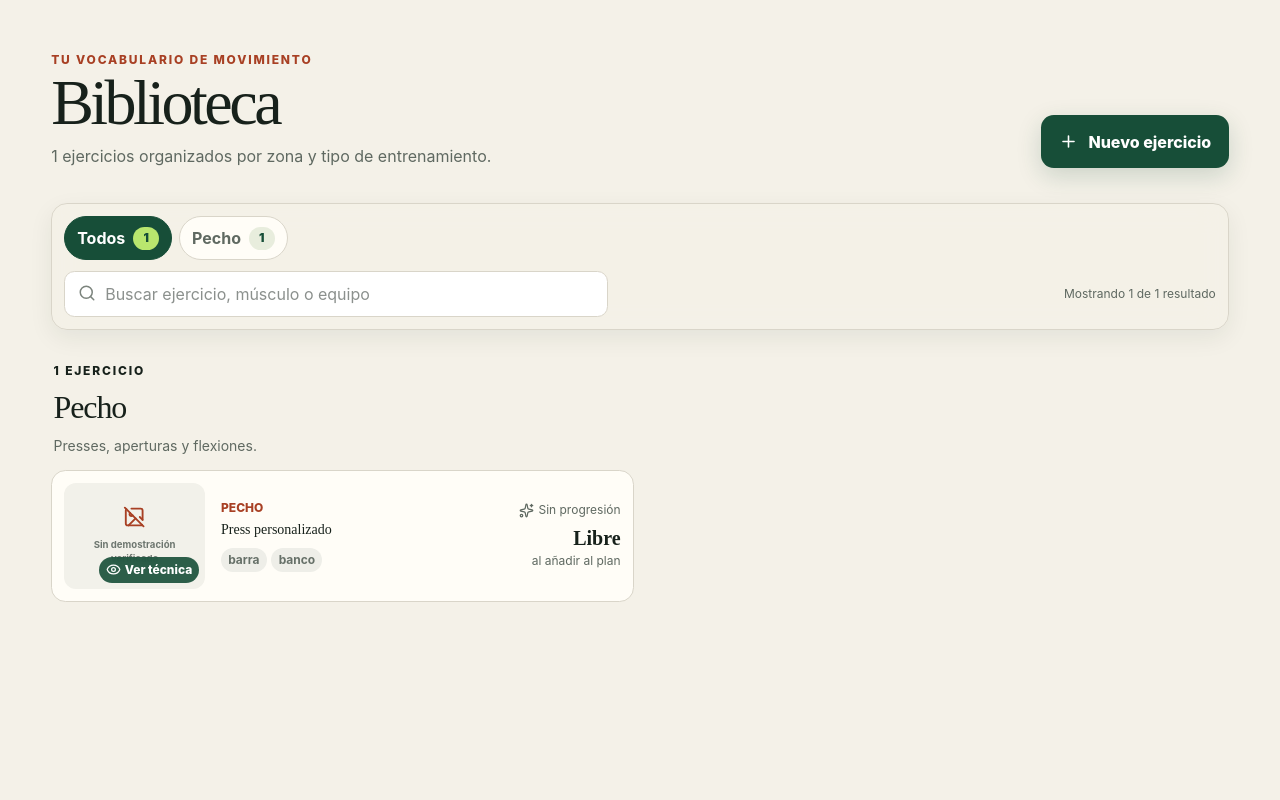
it: categorized exercise library › does not invent a visual for a custom exercise without verified media
This screenshot has width=1280, height=800.
Click the button with aria-label "Abrir guía visual de Press personalizado": x=135, y=536 left=64, top=483, right=205, bottom=589
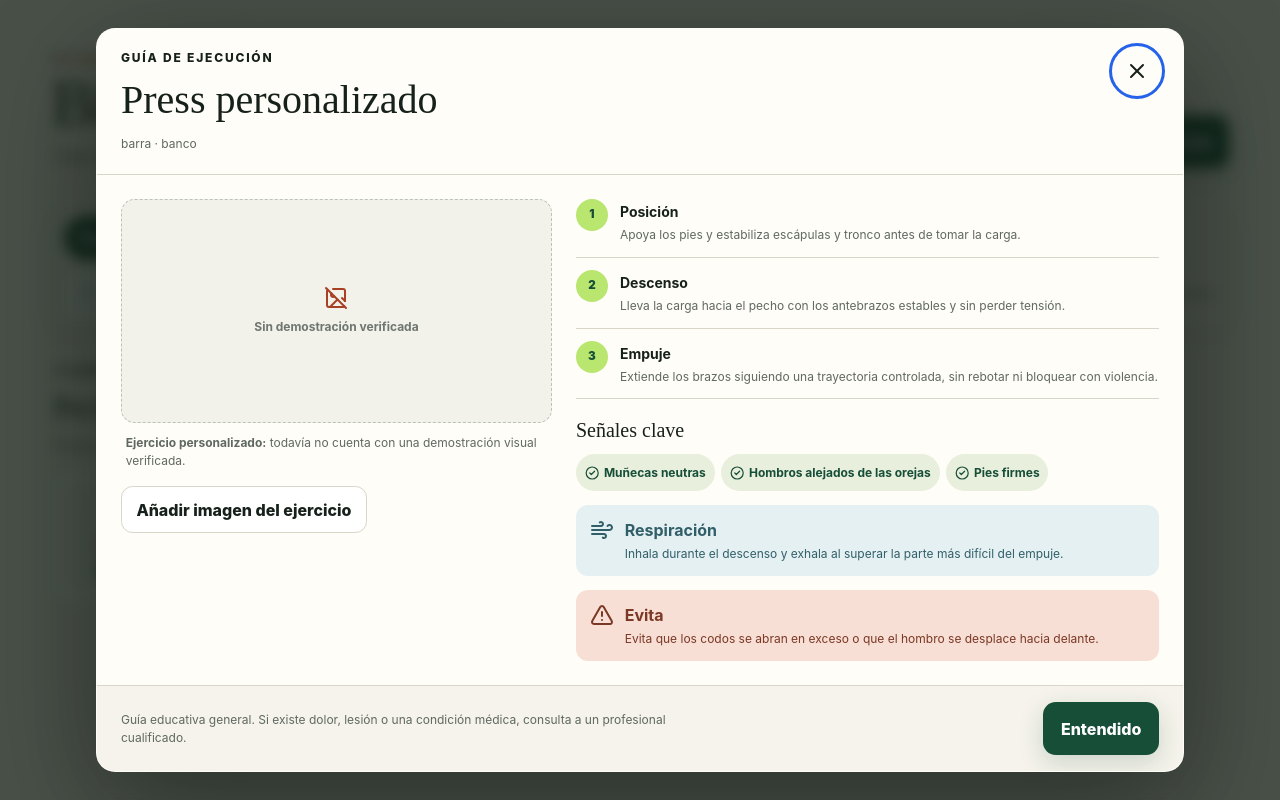
expect the text "Sin demostración verificada" is shown: met, box left=254, top=318, right=419, bottom=336
expect the text "Ejercicio personalizado:" is shown: met, box left=126, top=435, right=266, bottom=450
